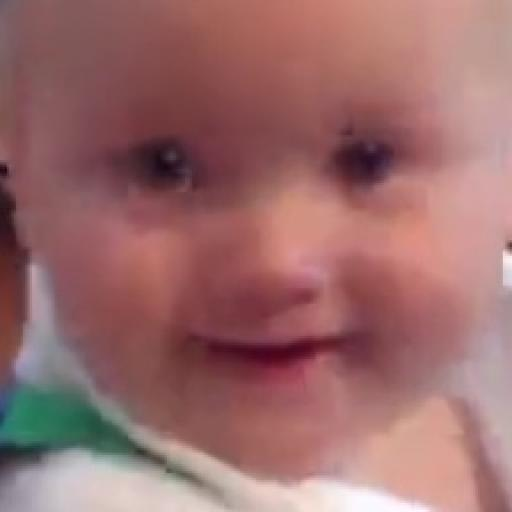Autism: (25, 4, 512, 488)
